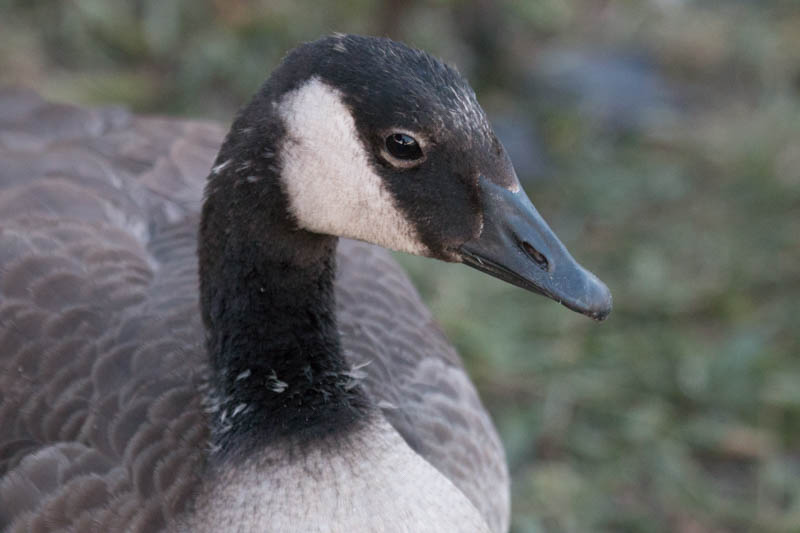goose-head: (213, 32, 616, 318)
